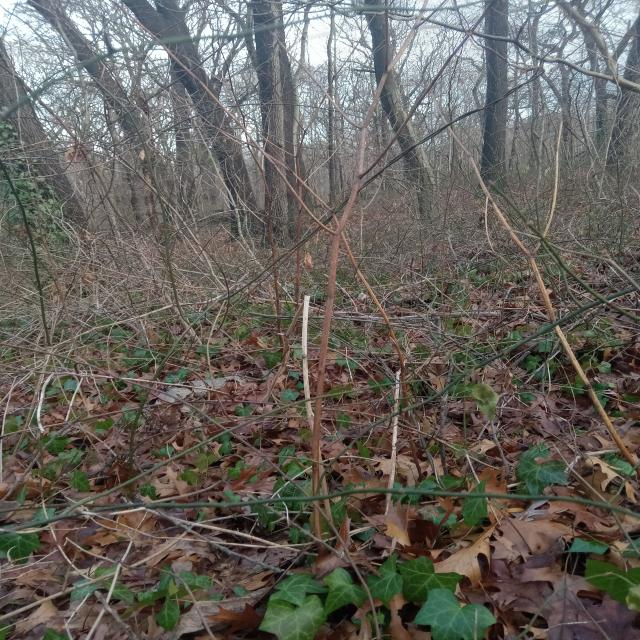bushes: (1, 1, 639, 638)
knotweed-stems: (438, 107, 638, 473), (314, 234, 336, 564)
tree trunks: (26, 0, 165, 243), (121, 0, 257, 243), (0, 37, 89, 241), (244, 0, 304, 248), (478, 1, 511, 190)
